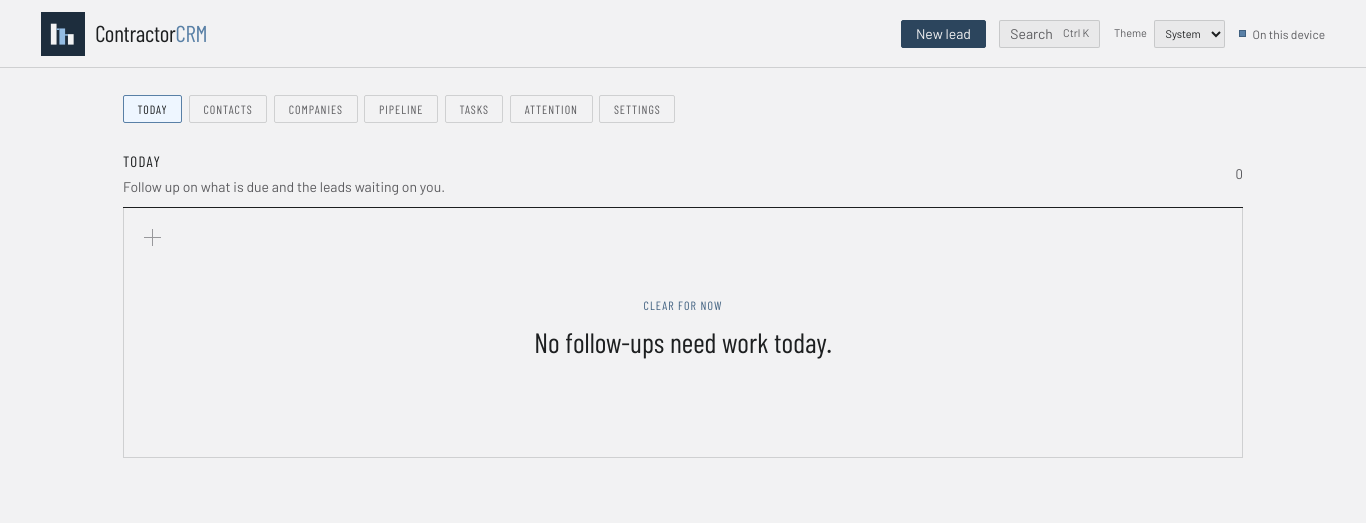
Test: pipeline table › renders opportunity rows with formatted money from integer minor units
This screenshot has width=1366, height=523.
What coordinates should you click on to do the following:
click the button "Pipeline"
I would click on:
 (401, 109)
Its box is [364,95,438,123].
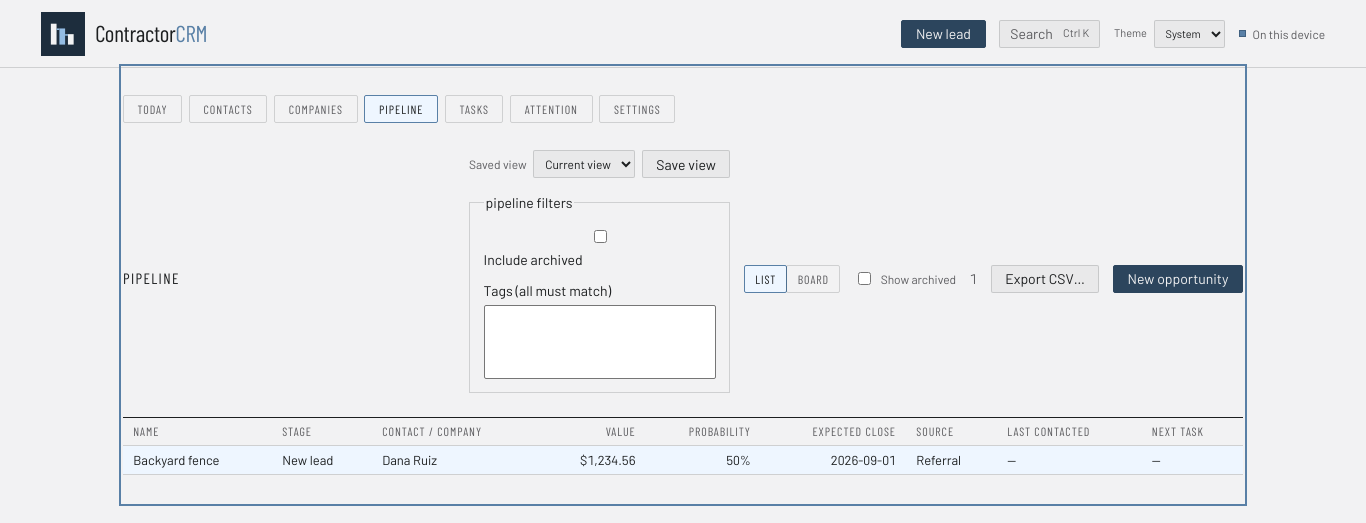
Expected: the text "Backyard fence" is shown, [133,452,220,468]
Expected: the text "New lead" is shown, [272,446,372,474]
Expected: the text "Dana Ruiz" is shown, [372,446,540,474]
